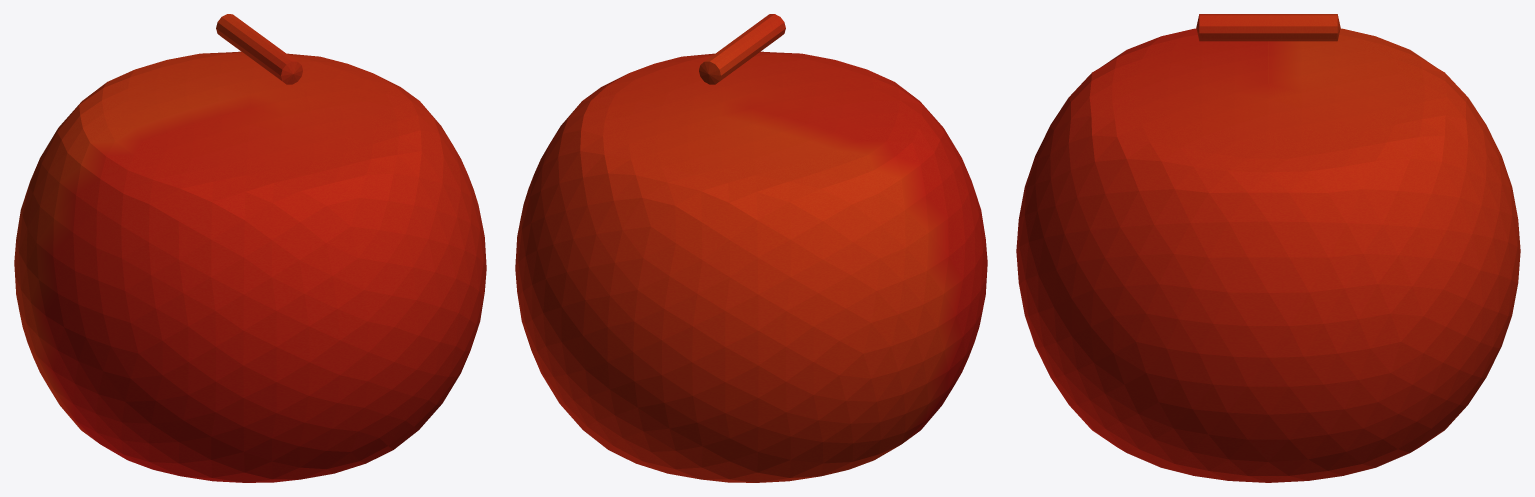
The picture shows the model from 3 angles, left to right: view 1: azimuth 30°, elevation 25°; view 2: azimuth 150°, elevation 25°; view 3: azimuth 270°, elevation 25°; orthographic projection. The views are drawn at different scales.
Parts seen in each view (by area): view 1: geometry_0; view 2: geometry_0; view 3: geometry_0.
Part boxes in pixels (x1=…): geometry_0: x1=14, y1=14, x2=486, y2=482; geometry_0: x1=515, y1=14, x2=987, y2=482; geometry_0: x1=1016, y1=14, x2=1520, y2=482.
Bounding box in the file's own units: 0.9 × 0.8438 × 0.9.
1 material, 1 textured.
